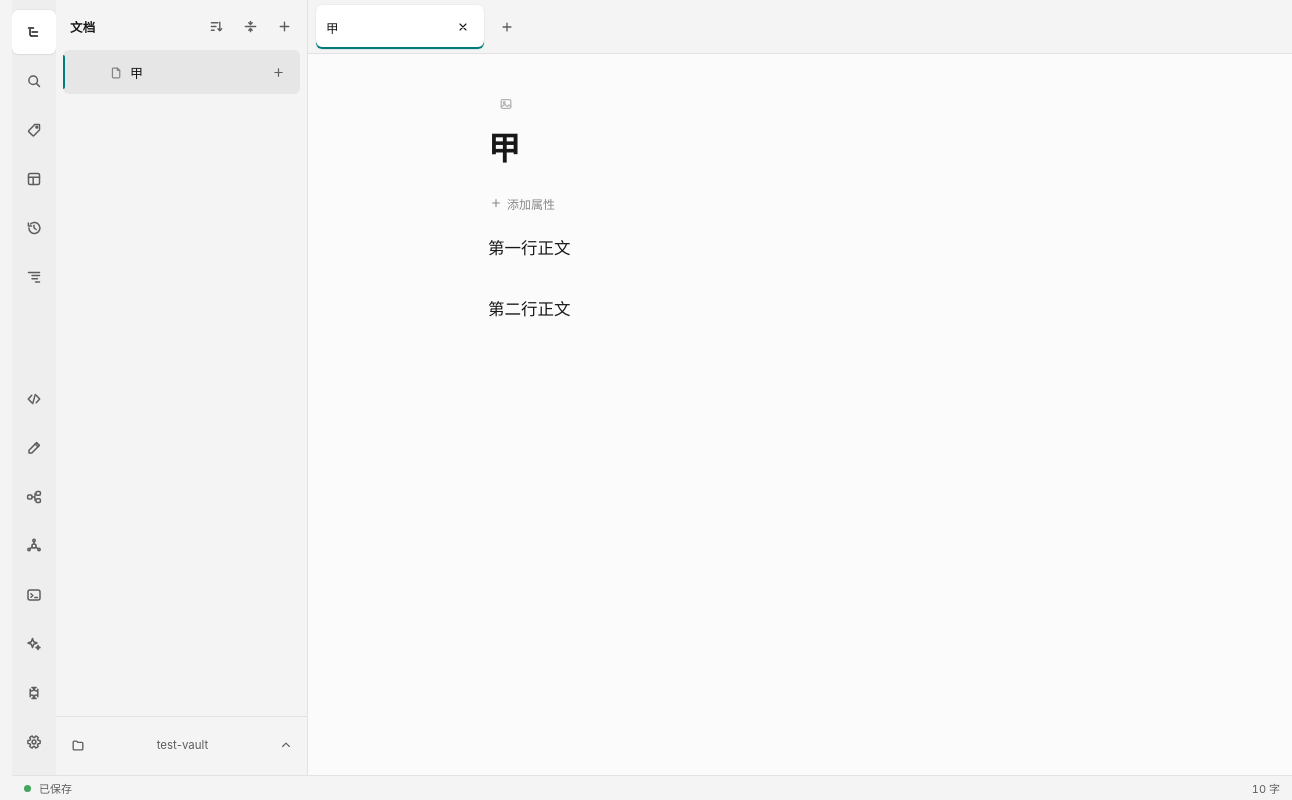
Test case: 正文里的右键菜单（§4.10） › 一级是三个二级菜单加剪贴板，没选东西时剪切复制点不动
Right-click the text box with class "cm-line" showing "第一行正文" at (529, 248), box [488,238,570,258]
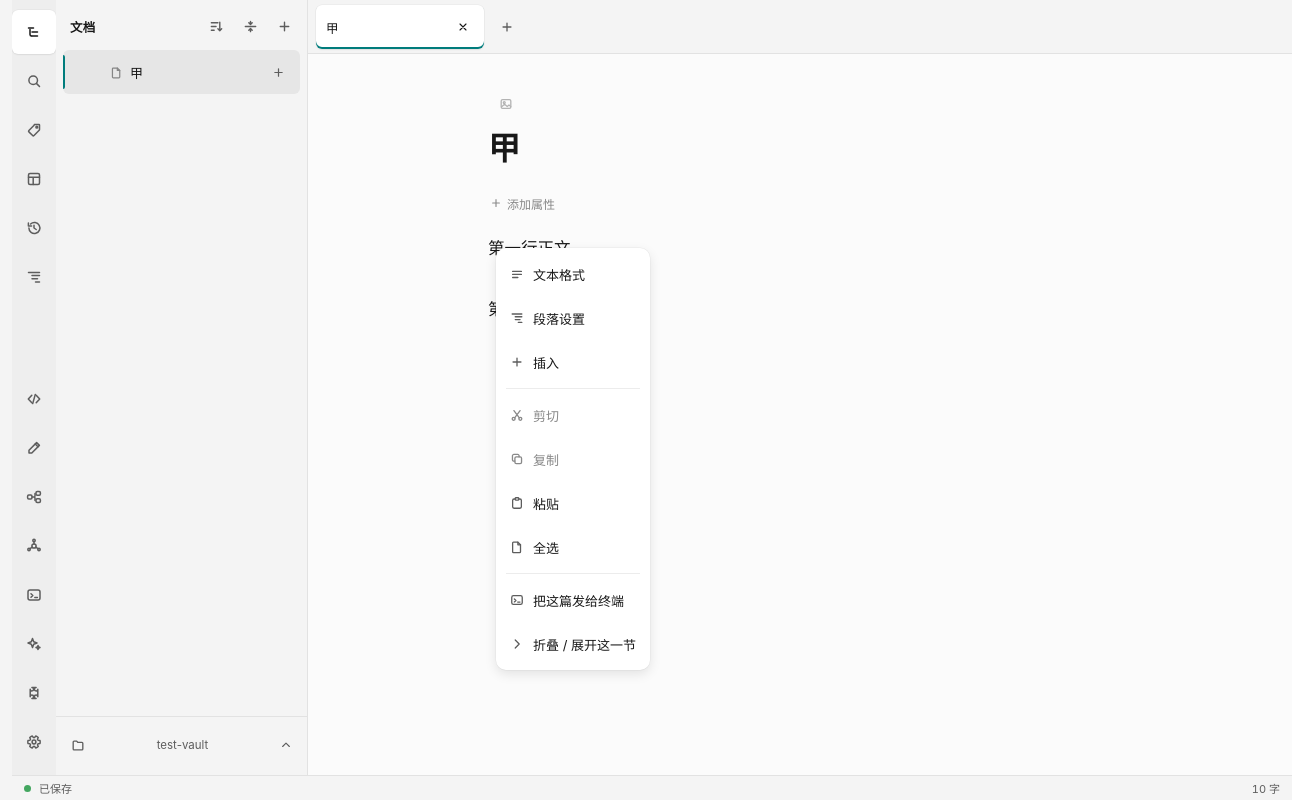
Now the button "剪切" is disabled, box [500,393,646,437]
Now the button "复制" is disabled, box [500,437,646,481]
Now the button "粘贴" is enabled, box [500,481,646,525]
